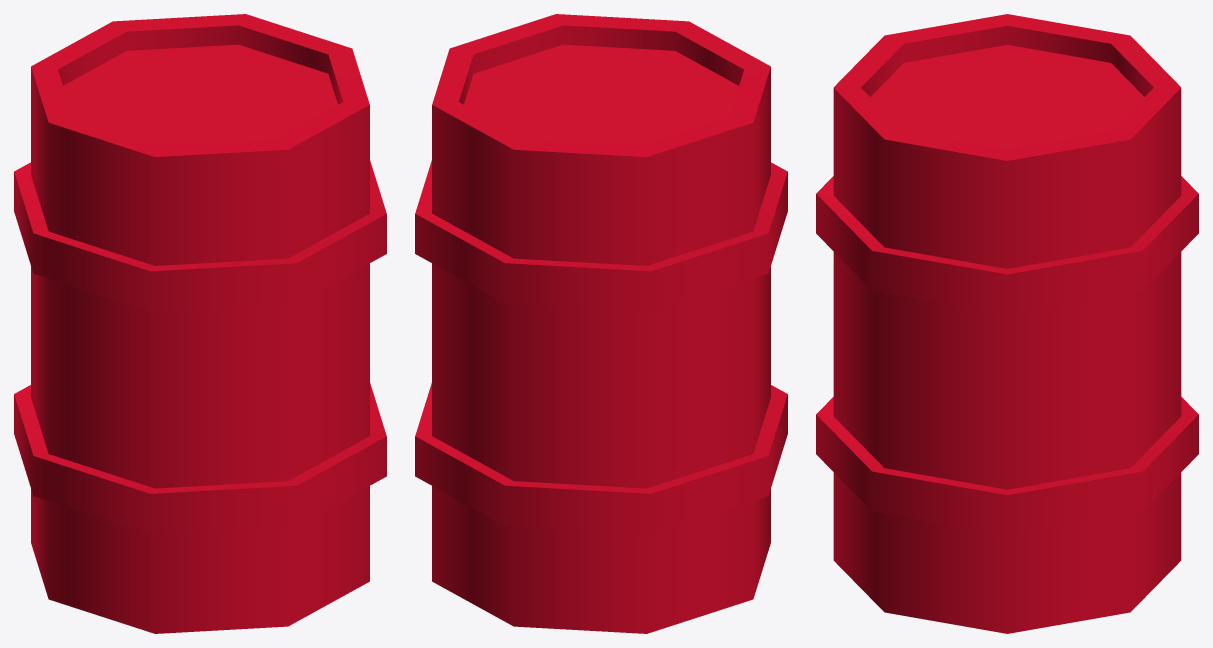
The model's file is Barrel.fbx.
The picture shows the model from 3 angles, left to right: view 1: azimuth 30°, elevation 25°; view 2: azimuth 150°, elevation 25°; view 3: azimuth 270°, elevation 25°; orthographic projection.
Visible parts, largest first — view 1: Cylinder.169; view 2: Cylinder.169; view 3: Cylinder.169.
Boxes of the visible parts, x1,y1,x2,y2 form: Cylinder.169: [14, 14, 386, 633]; Cylinder.169: [415, 14, 787, 633]; Cylinder.169: [816, 14, 1198, 633].
Bounding box in the file's own units: 220 × 300 × 220.
